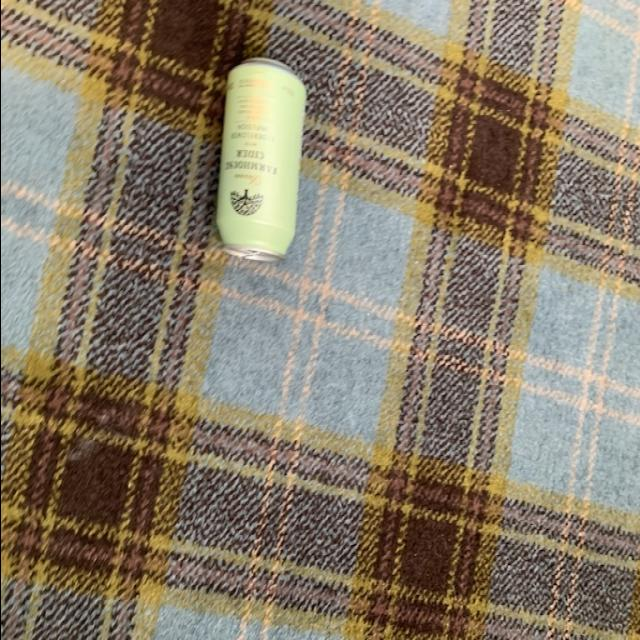litter: (210, 56, 304, 268)
